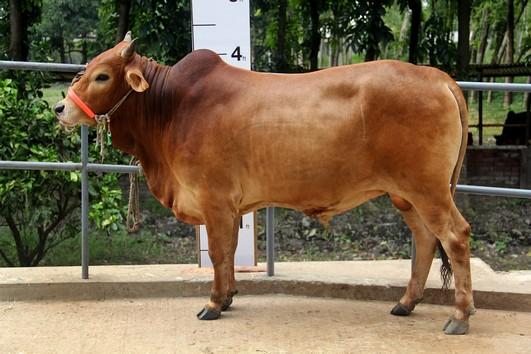cow: (47, 26, 481, 338)
